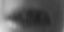LeftEyeFatigue: (2, 6, 55, 31)
